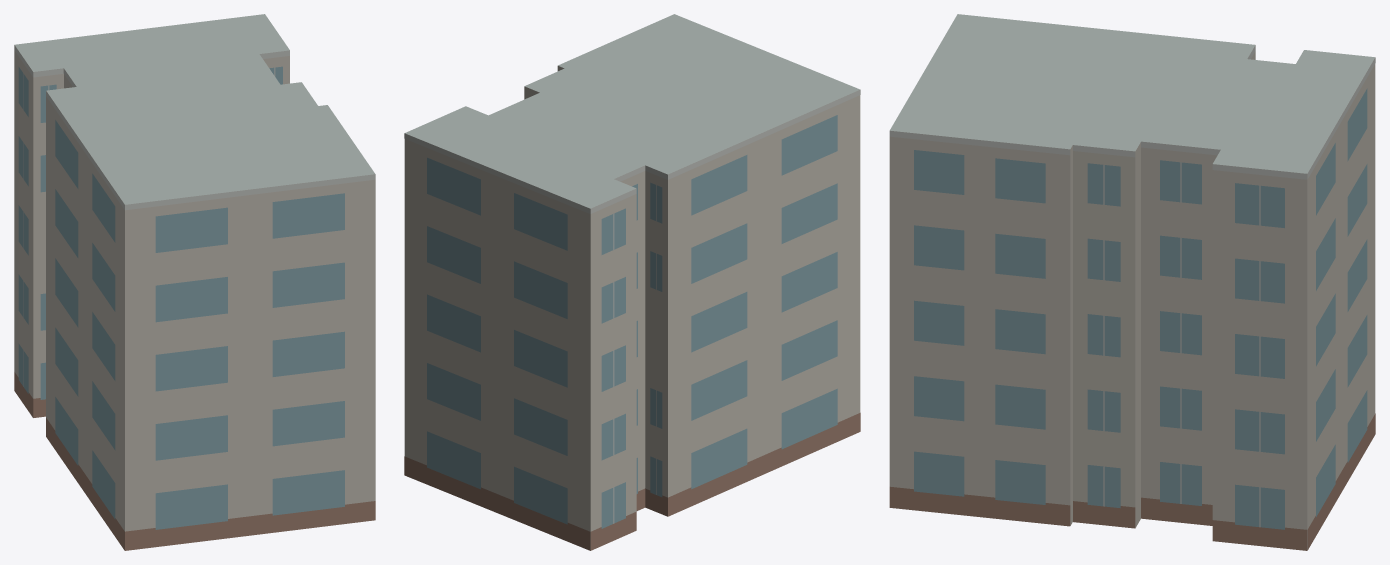
File: survey-upis-32784474.glb
3 renders of one model, left to right at view 1: azimuth 30°, elevation 25°; view 2: azimuth 150°, elevation 25°; view 3: azimuth 270°, elevation 25°, orthographic. The views are drawn at different scales.
Parts seen in each view (by area): view 1: survey-upis-32784474.tmp; view 2: survey-upis-32784474.tmp; view 3: survey-upis-32784474.tmp.
Boxes of the visible parts, x1,y1,x2,y2 form: survey-upis-32784474.tmp: [14, 14, 375, 550]; survey-upis-32784474.tmp: [404, 14, 860, 550]; survey-upis-32784474.tmp: [889, 14, 1375, 550].
Bounding box in the file's own units: 14.01 × 15.4 × 18.
